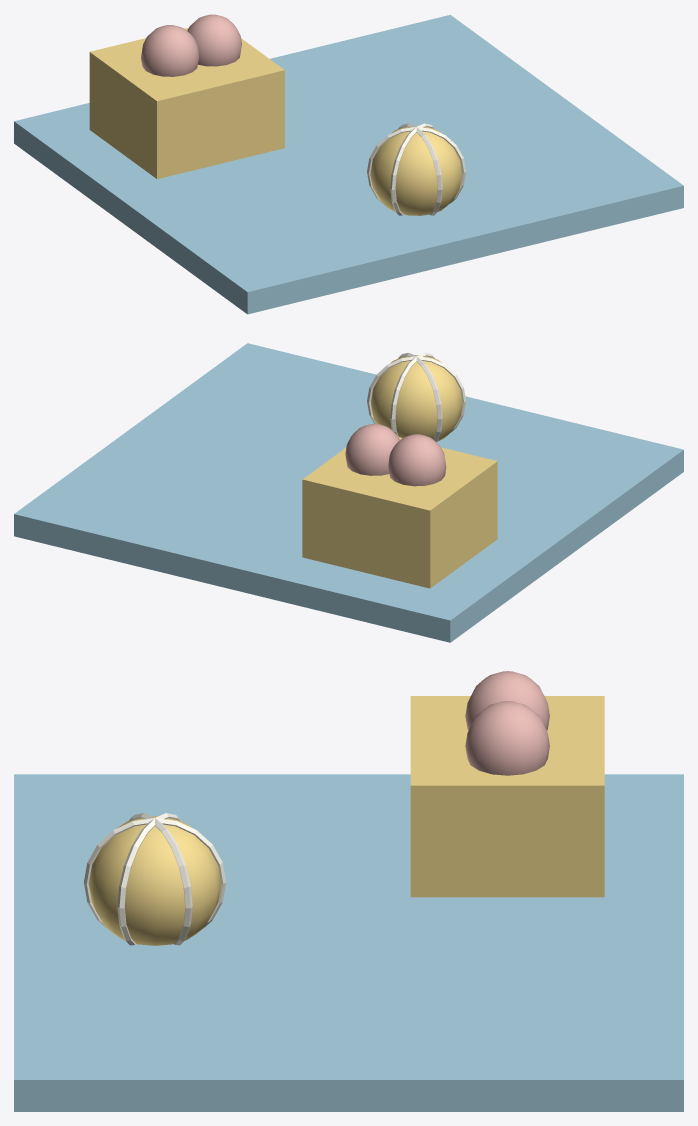
Rendered from toy-box.glb.
3 views of the same model, one above another, from view 1: azimuth 30°, elevation 25°; view 2: azimuth 150°, elevation 25°; view 3: azimuth 270°, elevation 25° (orthographic). The views are drawn at different scales.
Parts seen in each view (by area): view 1: soft play mat, toy chest, rolling ball, spare toy, Torus.011; view 2: soft play mat, toy chest, rolling ball, spare toy, Torus.011; view 3: soft play mat, toy chest, rolling ball, spare toy, Torus.011.
Part boxes in pixels (left/top/right/bottom): soft play mat: left=14, top=15, right=683, bottom=314; toy chest: left=89, top=27, right=284, bottom=179; rolling ball: left=370, top=125, right=462, bottom=215; spare toy: left=141, top=14, right=241, bottom=76; Torus.011: left=367, top=123, right=466, bottom=215; soft play mat: left=14, top=343, right=683, bottom=642; toy chest: left=302, top=437, right=497, bottom=588; rolling ball: left=371, top=355, right=462, bottom=441; spare toy: left=345, top=424, right=446, bottom=486; Torus.011: left=367, top=352, right=466, bottom=442; soft play mat: left=14, top=774, right=683, bottom=1111; toy chest: left=410, top=696, right=604, bottom=897; rolling ball: left=88, top=816, right=221, bottom=945; spare toy: left=465, top=671, right=549, bottom=775; Torus.011: left=84, top=813, right=226, bottom=945.
Bounding box in the file's own units: 2.05 × 0.62 × 1.9.
